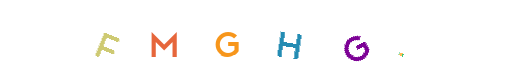7: (316, 0, 396, 80)
F: (103, 0, 183, 80)
G: (225, 0, 305, 80), (278, 0, 358, 80)
H: (250, 0, 330, 80)
M: (153, 0, 233, 80)
